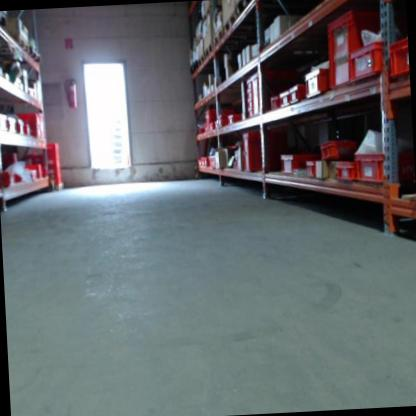pallet: (12, 33, 29, 55), (236, 0, 256, 17), (224, 10, 238, 34), (212, 28, 225, 48), (201, 3, 212, 21), (28, 46, 40, 62), (204, 43, 213, 59), (197, 55, 205, 67)
small_load_carrier: (322, 5, 388, 89), (352, 146, 414, 184), (348, 38, 388, 88), (238, 130, 273, 174), (277, 146, 320, 177), (386, 31, 409, 82), (316, 136, 360, 160), (302, 65, 329, 99), (250, 71, 267, 118), (333, 159, 358, 185), (286, 82, 303, 107), (303, 156, 318, 180), (277, 89, 292, 111), (241, 88, 259, 98), (207, 155, 218, 169), (244, 77, 257, 88), (247, 98, 258, 108), (245, 108, 257, 117)
